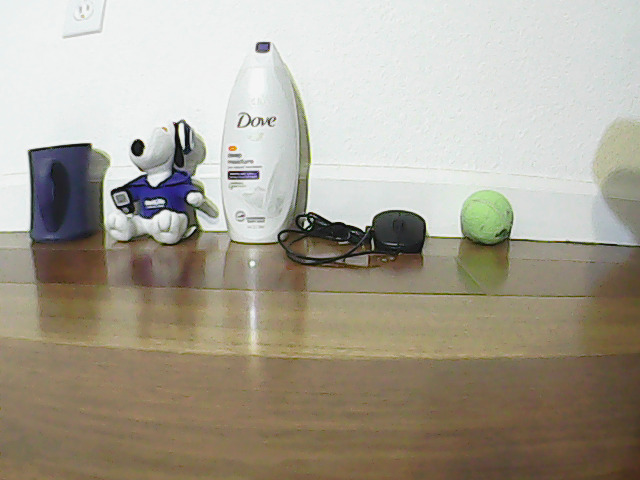ball: (463, 192, 521, 245)
mouse: (365, 199, 429, 253)
mug: (32, 124, 97, 241)
snoopy: (117, 104, 196, 255)
soap: (216, 20, 301, 248)
